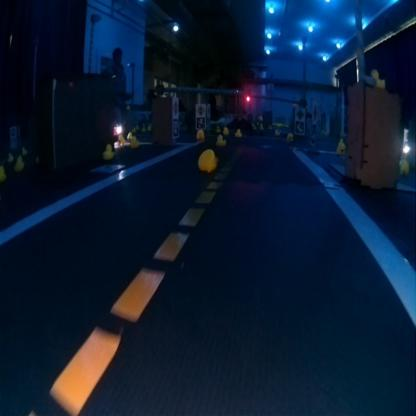Duckie: (198, 149, 216, 173), (369, 68, 384, 86), (398, 159, 409, 176), (102, 145, 114, 156), (14, 158, 25, 170), (215, 134, 224, 146), (130, 136, 139, 147), (336, 142, 344, 154), (196, 129, 204, 138), (117, 137, 123, 146), (286, 132, 292, 140), (235, 129, 241, 137)
Intersection sign: (296, 108, 304, 119)
QR code: (294, 121, 304, 134), (172, 118, 178, 136), (196, 117, 204, 127)
Signal sign: (172, 99, 178, 116), (196, 105, 204, 115)
Traffic light: (244, 94, 250, 102)
